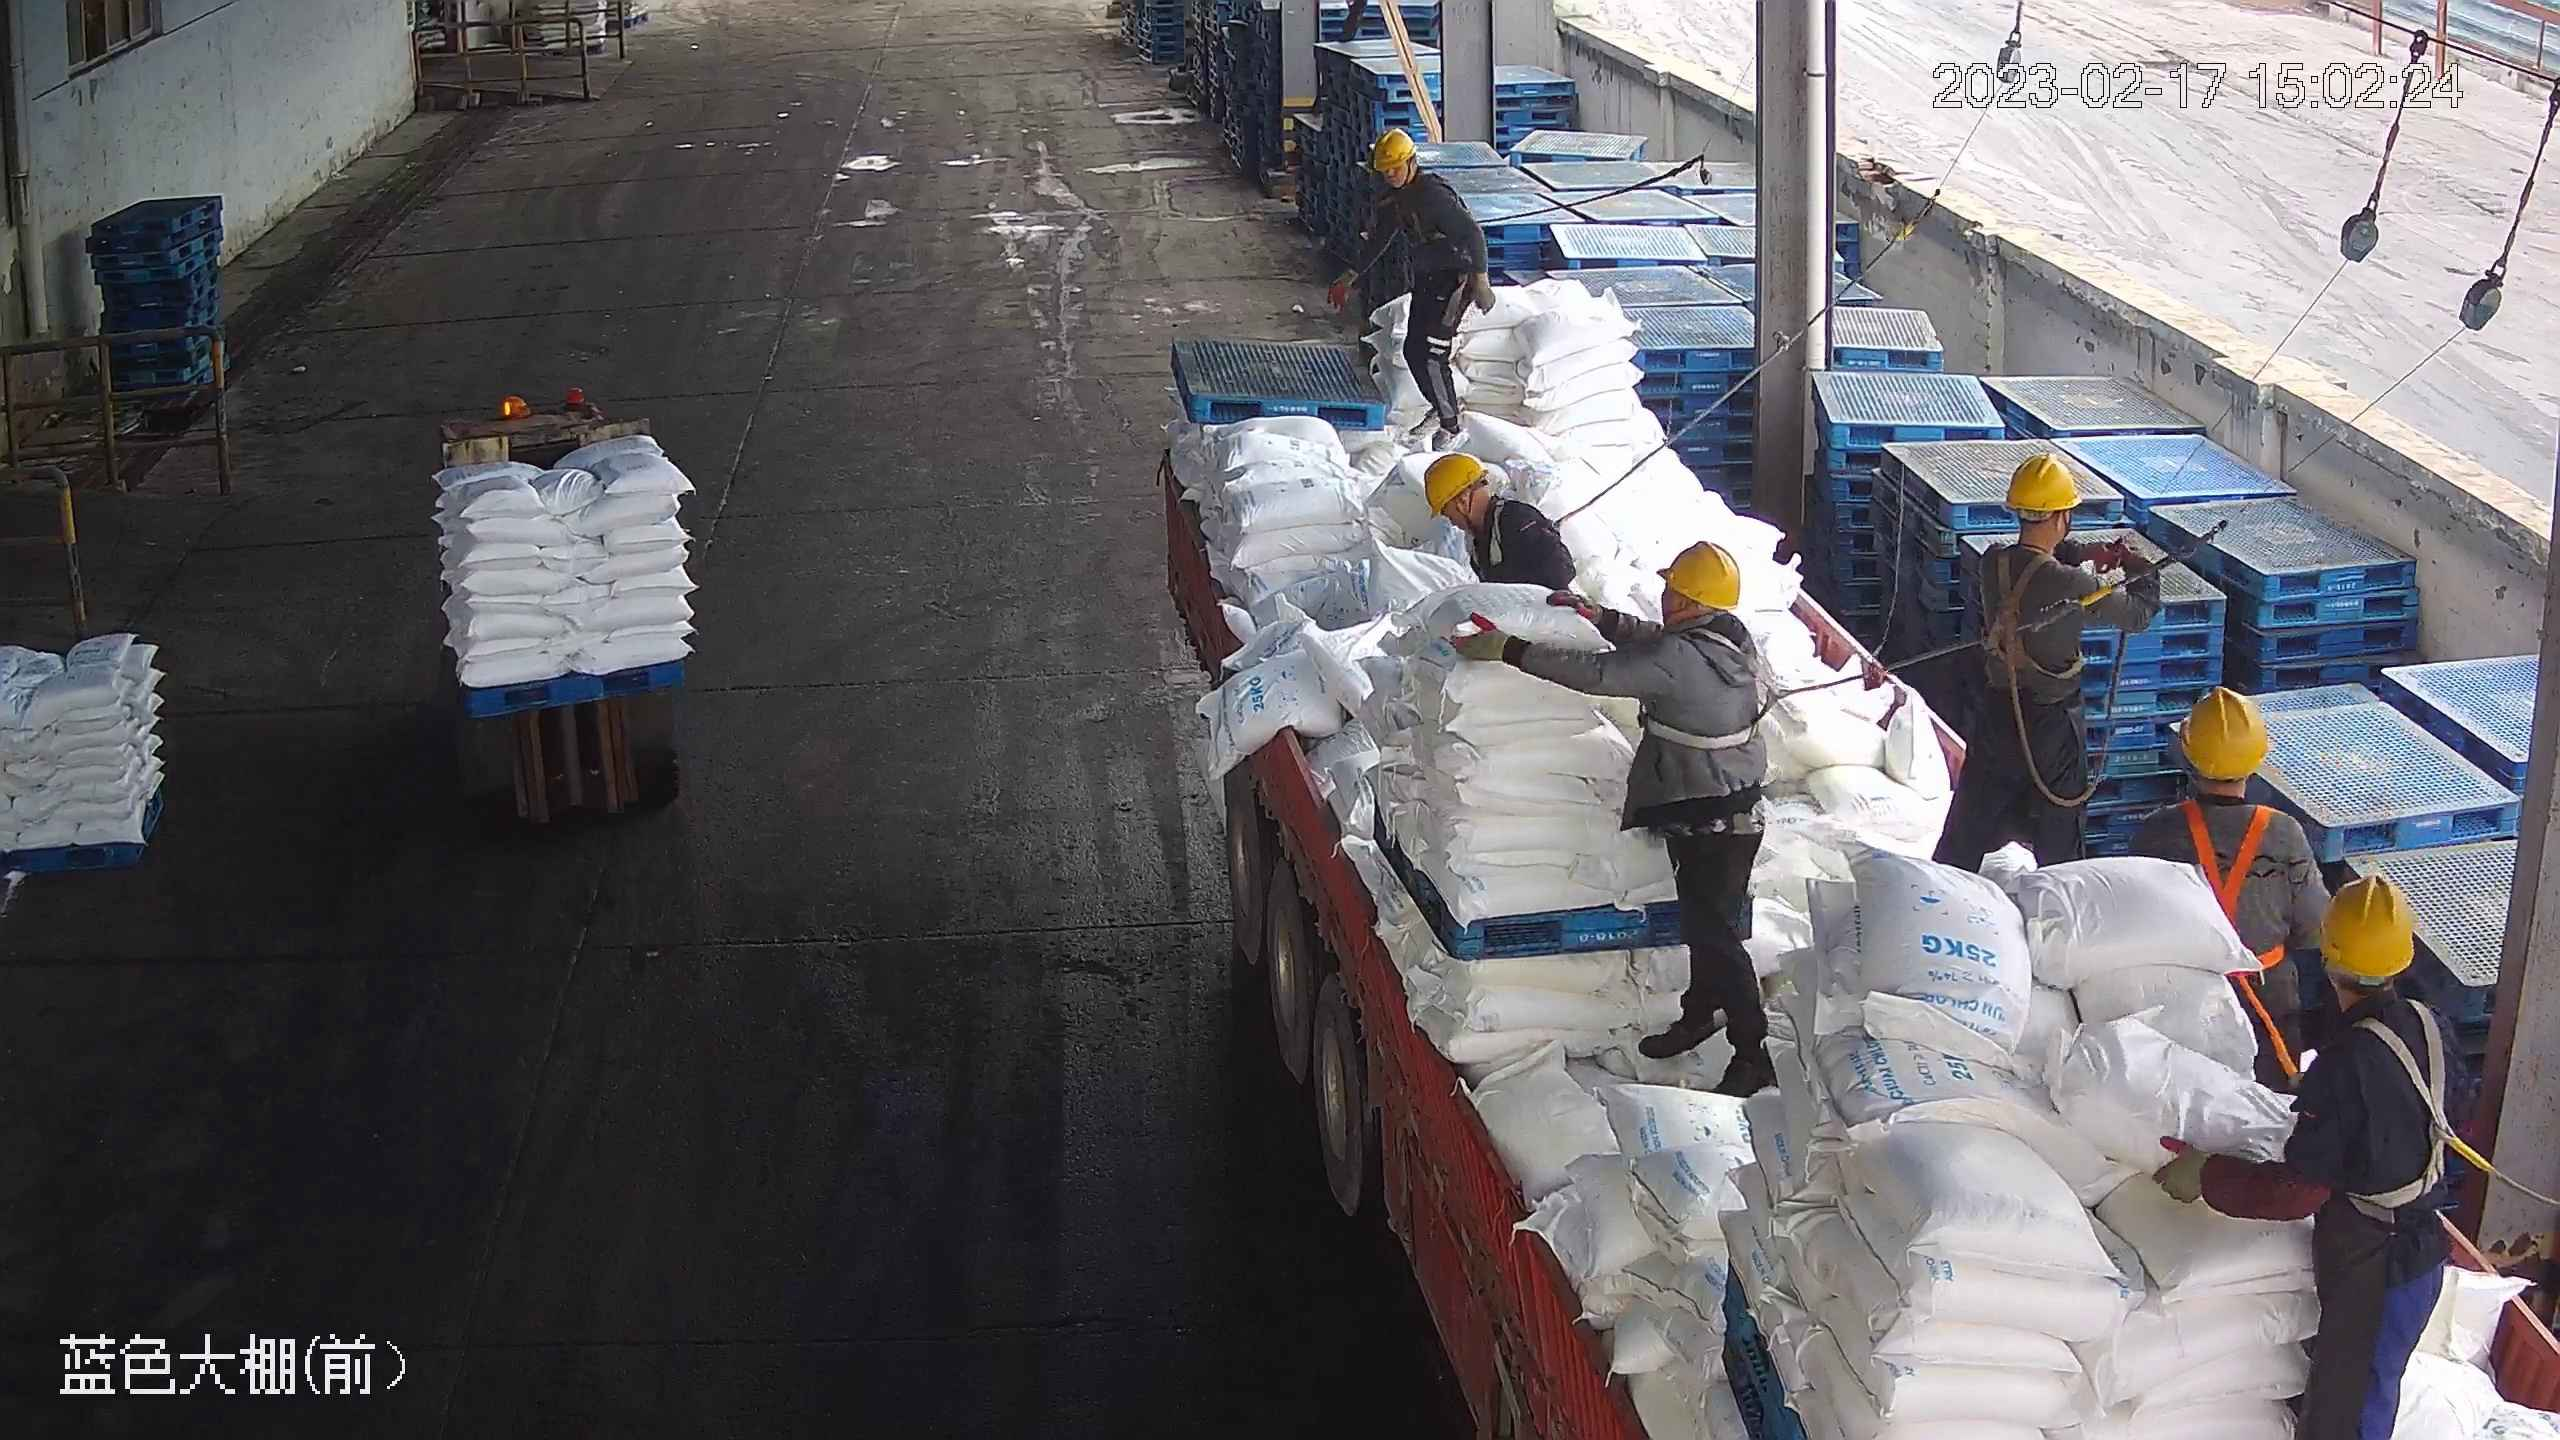belt: (2148, 865, 2467, 1437), (2327, 1003, 2481, 1223), (1620, 541, 1767, 692), (1649, 621, 1804, 752), (2170, 795, 2307, 918), (1360, 128, 1462, 228), (1384, 169, 1453, 234), (1476, 501, 1526, 566)
head: (2283, 867, 2461, 1131), (2130, 685, 2329, 867), (1619, 540, 1765, 688), (1975, 449, 2108, 599), (1419, 448, 1558, 559), (1360, 127, 1464, 227)
helmet: (1621, 539, 1765, 687), (2315, 865, 2424, 981), (1359, 127, 1463, 222), (2174, 682, 2272, 780), (1654, 540, 1745, 610), (2002, 449, 2084, 513), (1421, 449, 1490, 513), (1369, 127, 1419, 172)
people: (1441, 537, 1785, 1095), (2148, 863, 2465, 1440), (1941, 448, 2164, 878), (1324, 124, 1488, 447)
truck: (1095, 157, 2538, 1437)
